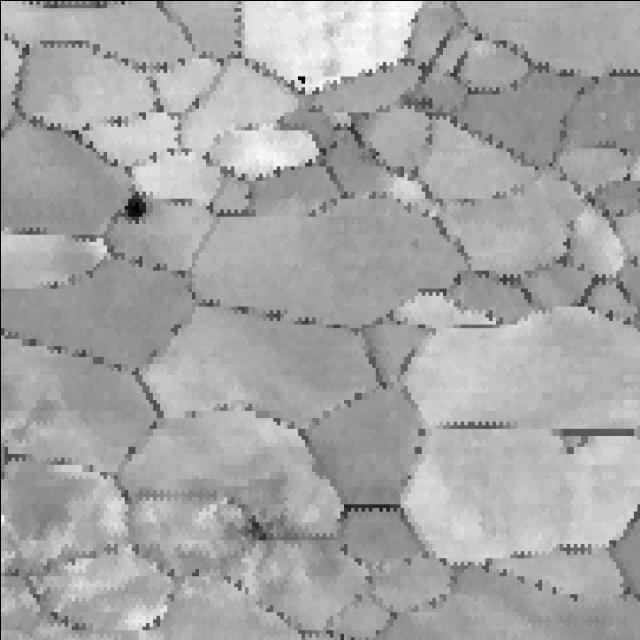good_void: (220, 488, 284, 561), (116, 188, 156, 244), (559, 434, 591, 459), (417, 127, 439, 148), (291, 71, 313, 86)
